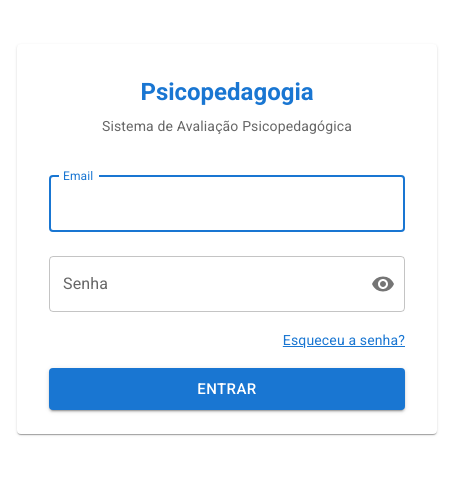
Test: LoginPage › exibe mensagem de erro quando login falha
The width and height of the screenshot is (455, 485).
Type "errado@test.com" into the field labelled "Email" at (227,204), box [49,176,405,232]
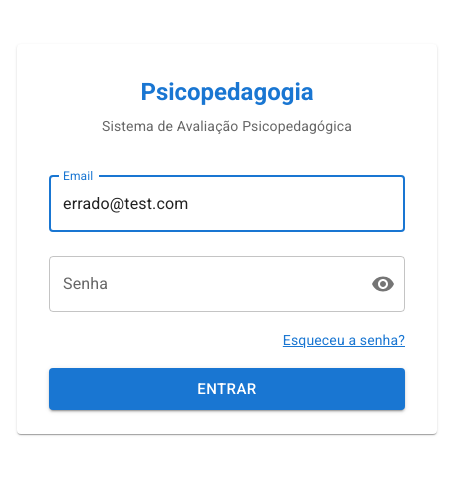
Type "SenhaErrada@1" into the password field labelled "Senha" at (202,284), box [49,256,355,312]
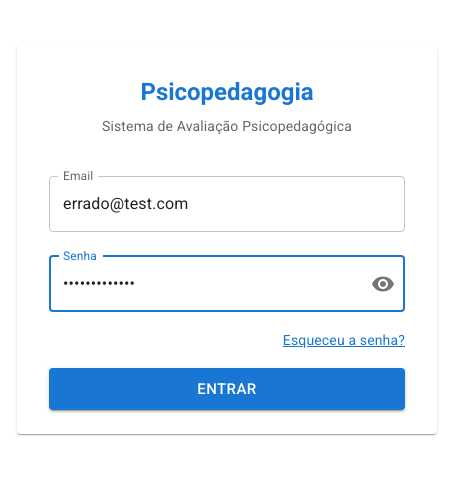
Click the button "Entrar" at (227,389), box [49,368,405,410]
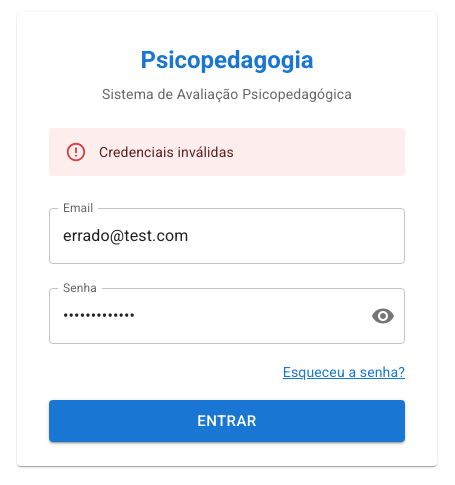
Expected: the text "Credenciais inválidas" is shown, [99,144,234,160]
